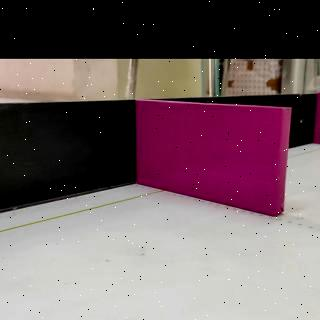xparking: (134, 110, 286, 204)
